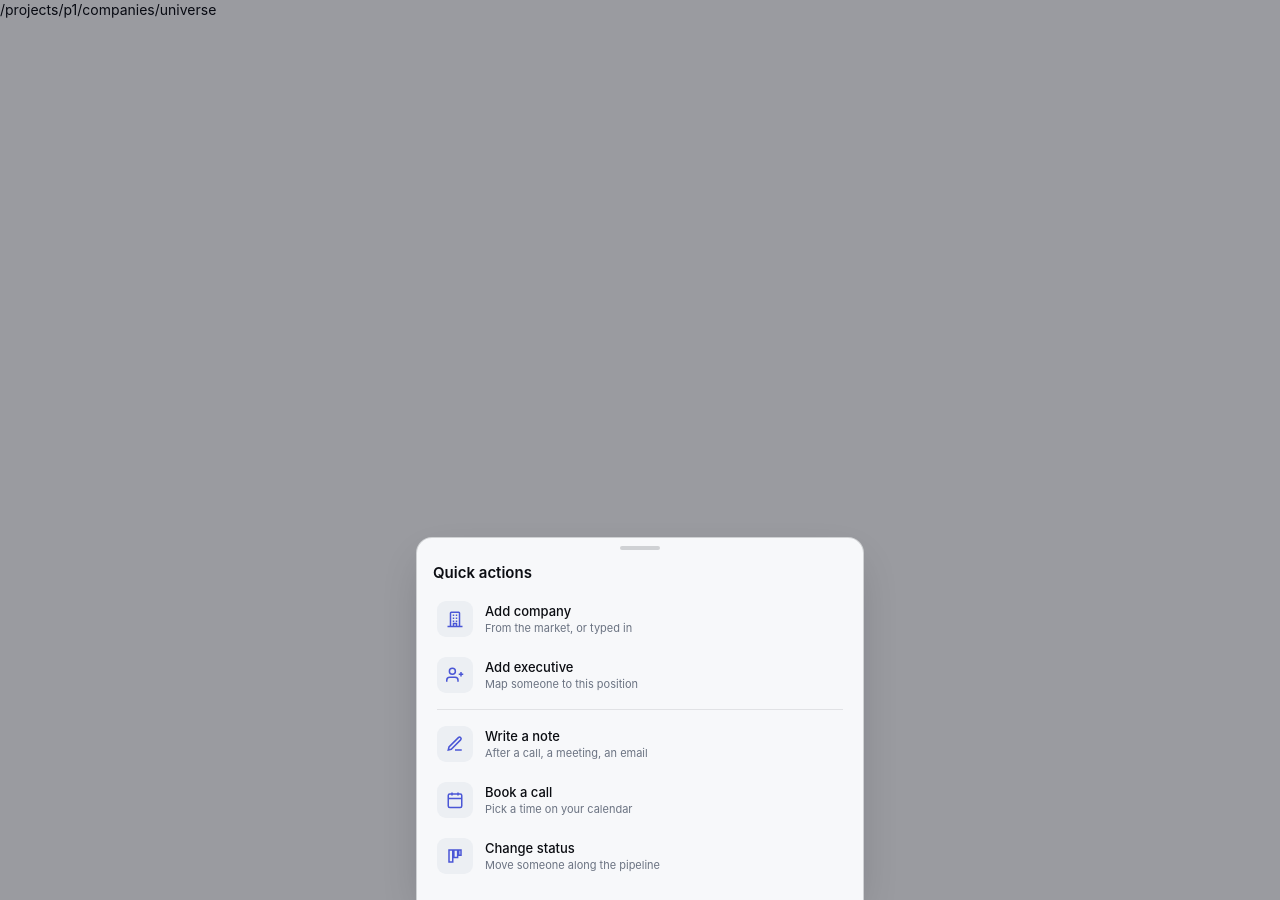
PositionQuickActions › lists thirty executives and asks for a few letters for the rest
Click the button "Book a call Pick a time on your calendar".
click(455, 800)  # box [425,772,855,828]
(page scrolled)
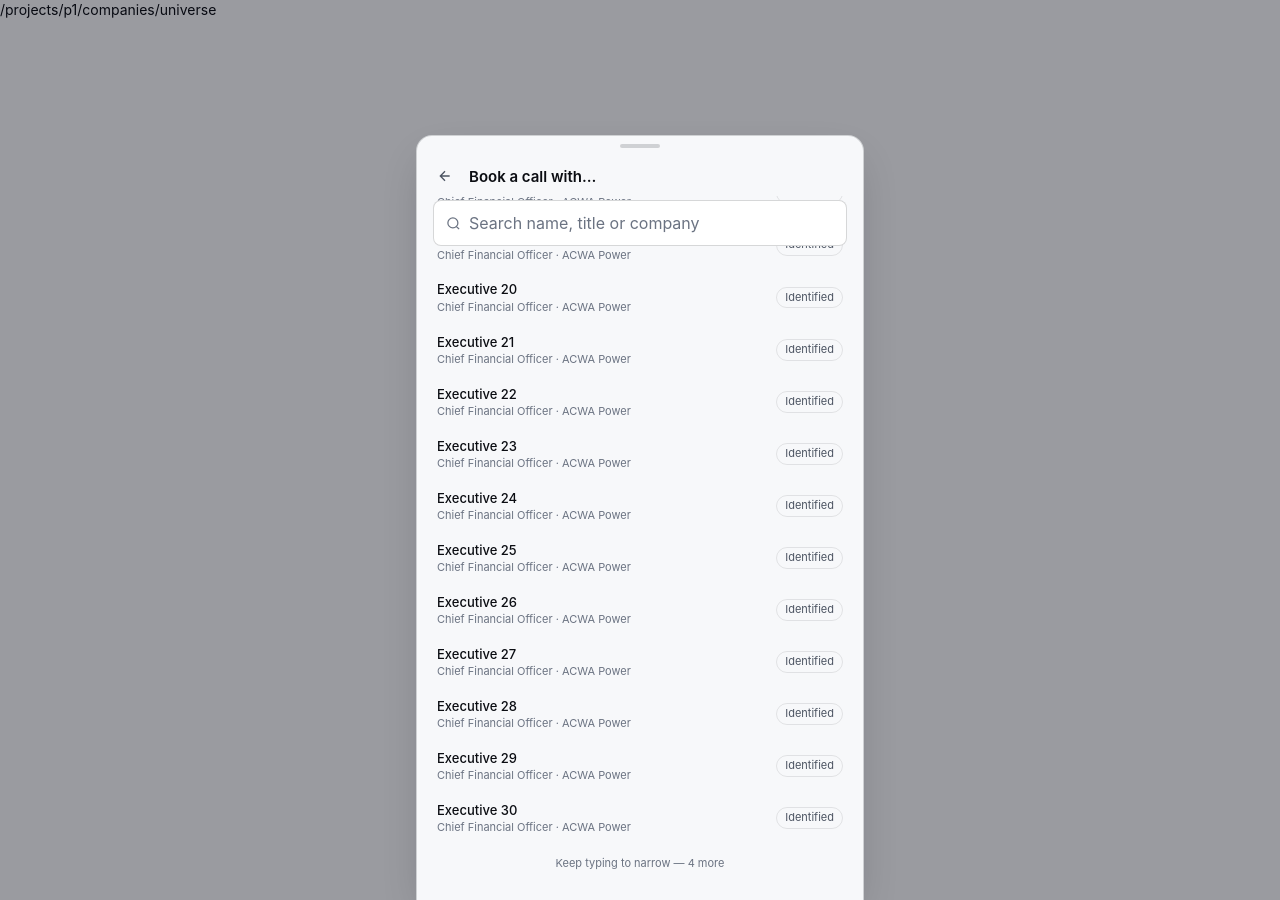
expect the list item "Keep typing to narrow — 4 more" is shown: met, box [556,856,724,870]
